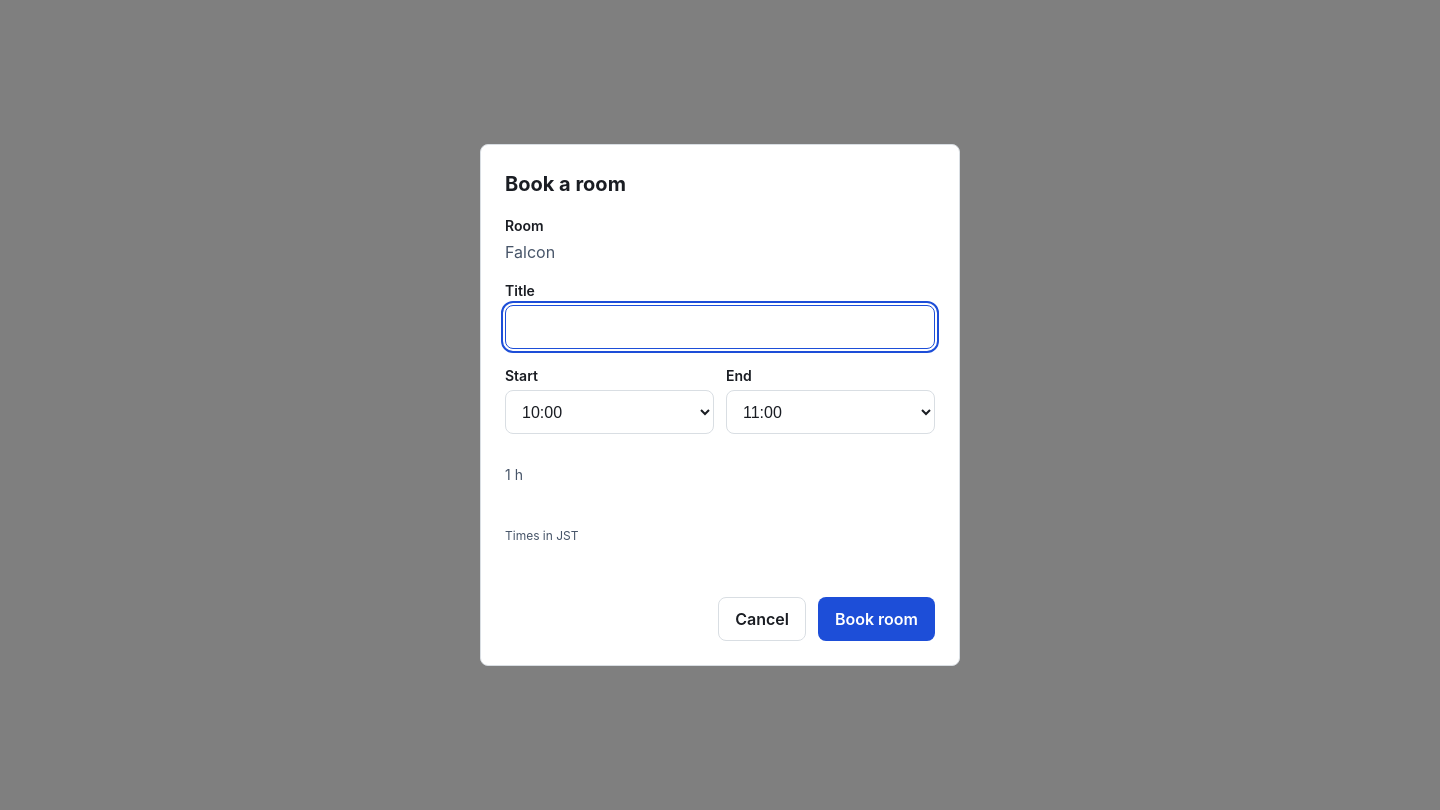
Test case: BookingDialog › shows the overlap message on a 409 and keeps the typed title
The image size is (1440, 810).
In the field labelled "Title": (720, 327) [505,305,935,349], type "Sprint planning"
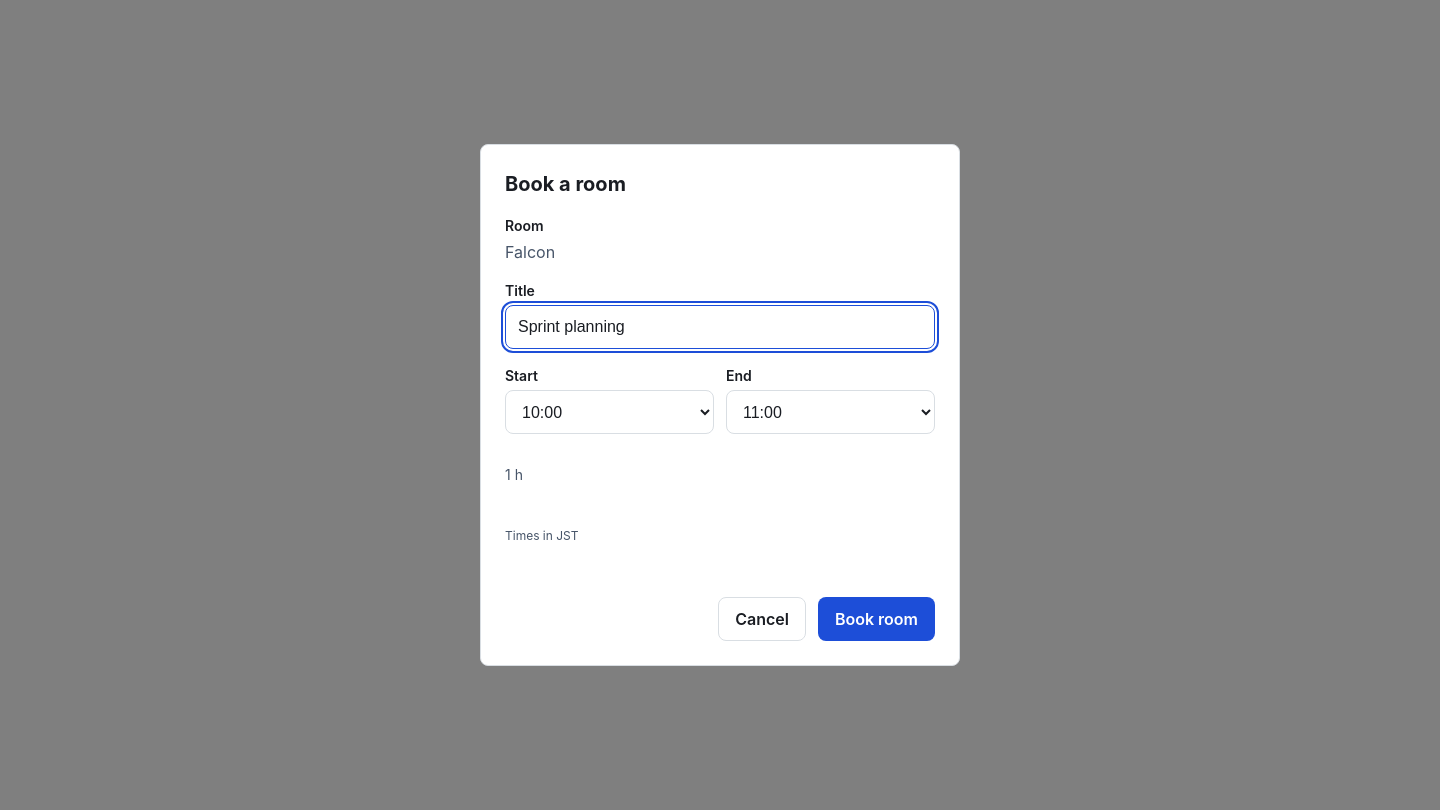
Click the button "Book room": click(876, 619) [818,597,935,641]
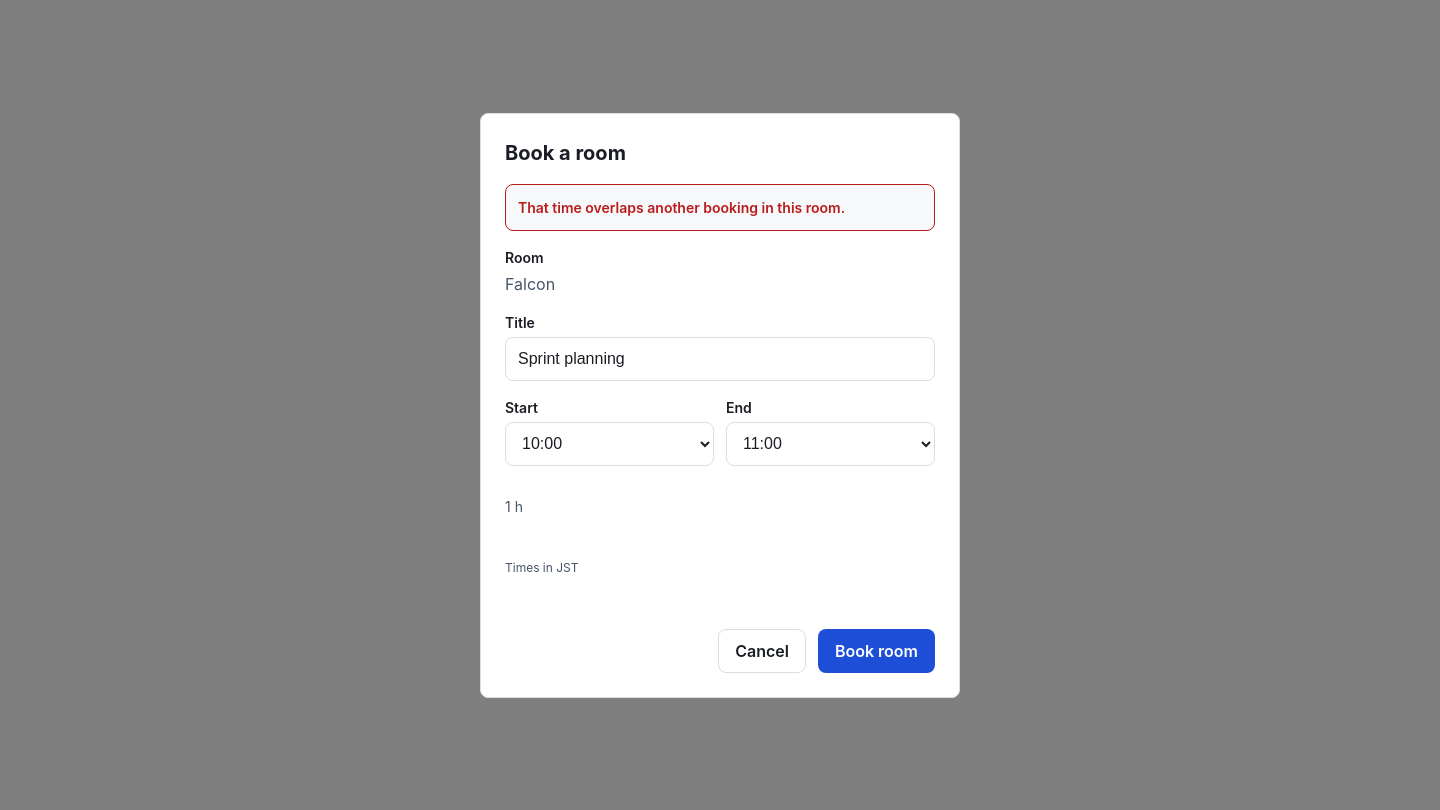
Check: the text "That time overlaps another booking in this room." is shown, box [505,184,935,230]
